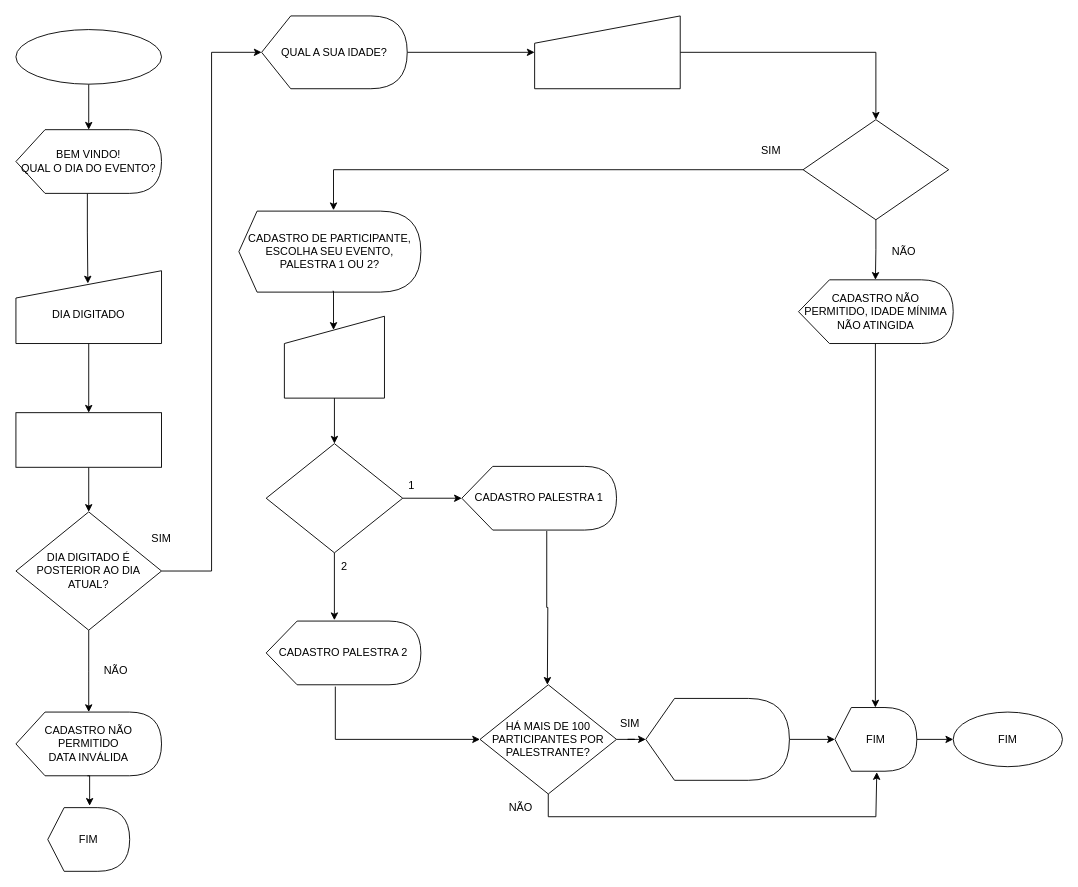
Image size: 1078x887. Some labels were removed from this diagram. The shapes that lost their labels are listed below. From the top down, each one's centre as x and y in pixels, then its label:
At (88,56): "INÍCIO".
At (607,52): "IDADE".
At (875,169): "USUÁRIO MAIOR DE 18 ANOS?".
At (333,356): "PALESTRA 1 =1 PALESTRA 2 = 2".
At (88,439): "COMPARAR DIA ATUAL COM O DIA DIGITADO".
At (334,498): "PALESTRA 1 OU 2?".
At (717,739): "CADASTRO NÃO PERMITIDO, LIMITE DE PARTICIPANTES EXCEDIDO".
